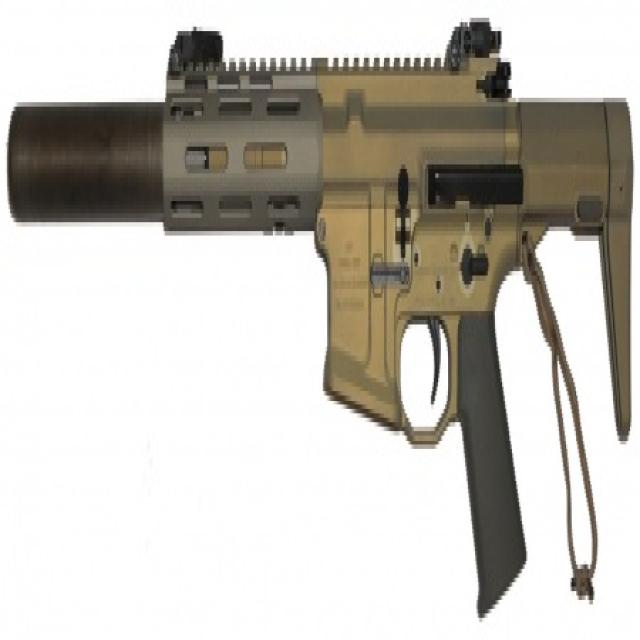rifle: (2, 1, 640, 637)
